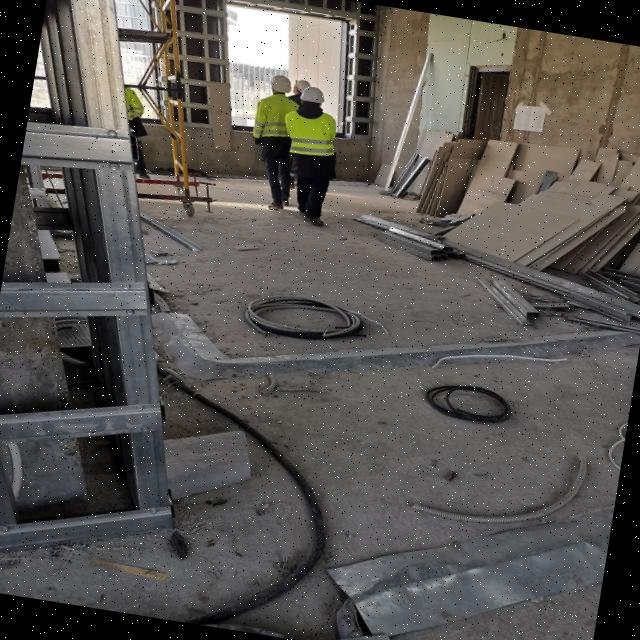Helmet: (301, 89, 326, 109), (270, 76, 294, 95), (295, 81, 312, 95)
Jacket: (288, 106, 335, 163), (257, 94, 296, 145), (126, 89, 145, 124)
